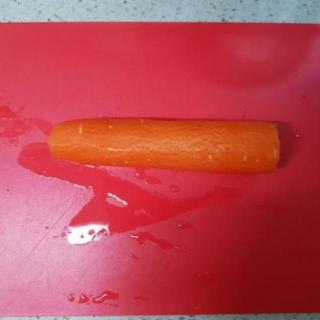carrot: (42, 116, 284, 170)
